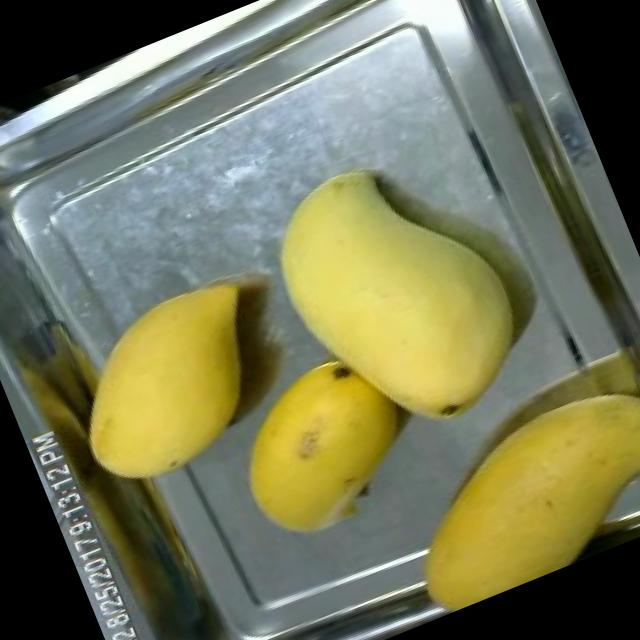fruit: (236, 112, 556, 473), (366, 345, 640, 621), (34, 261, 296, 511), (198, 326, 442, 562)
